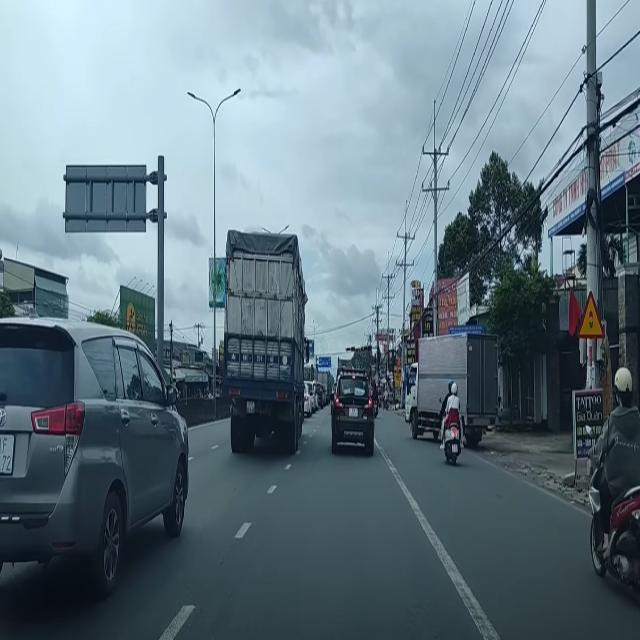Bien bao giao nhau co tin hieu den: (574, 288, 608, 344)
